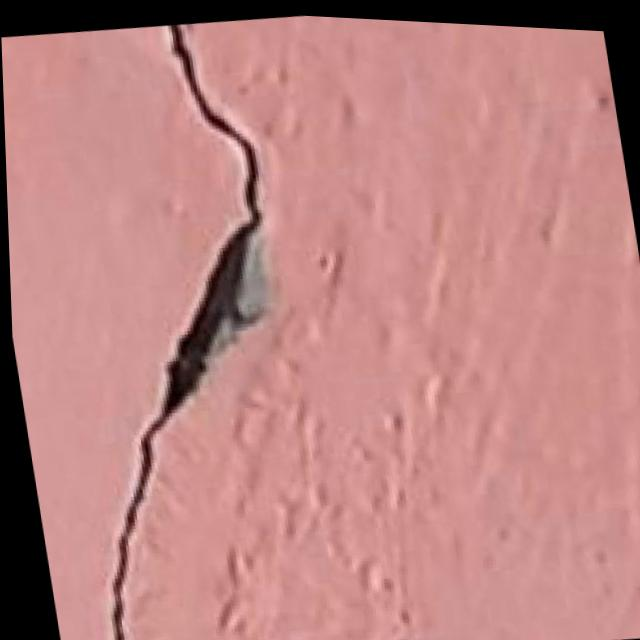Crack: (0, 4, 360, 640)
